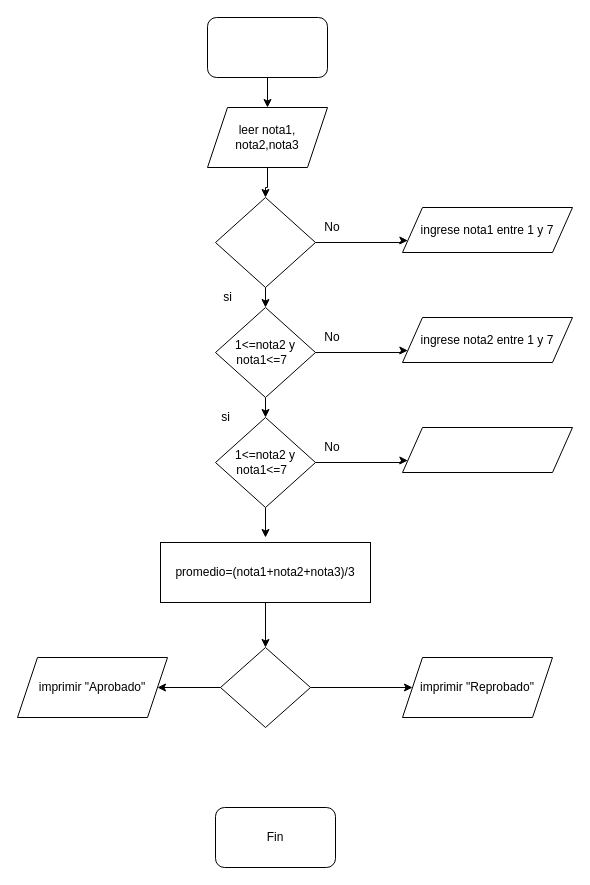
The diagram is 590 pixels wide and 885 high, and some of its shapes have lost their labels. The shapes that lost their labels are listed below. From the top down, each one's centre as x and y in pixels, then its label:
At (x=267, y=47): "inicio".
At (x=265, y=242): "1<=nota1 y nota1<=7".
At (x=487, y=449): "ingrese nota3 entre 1 y 7".
At (x=265, y=687): "promedio >= 4".
